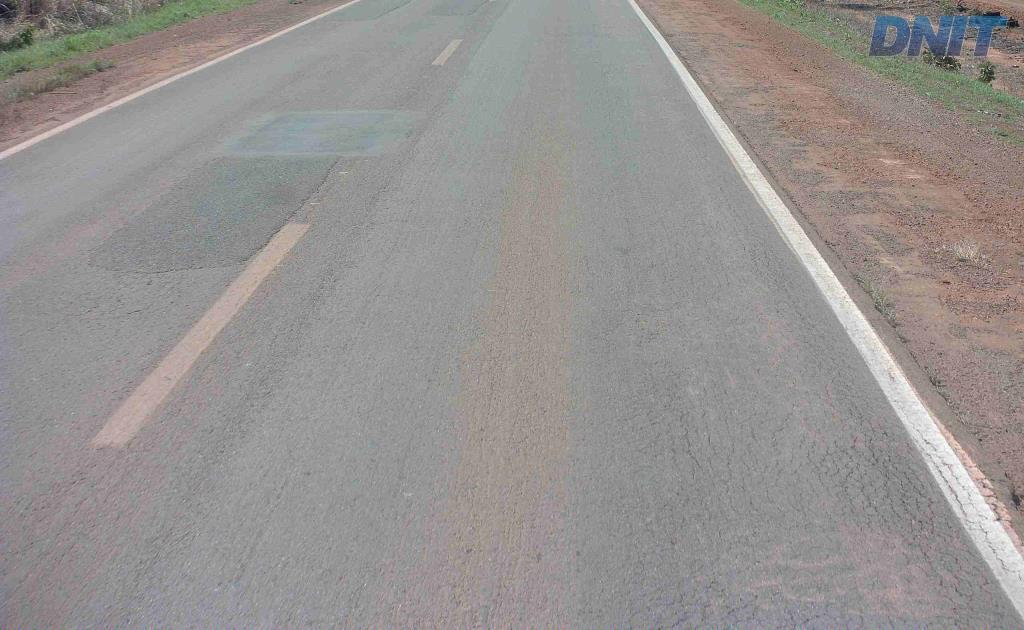crack: (878, 458, 941, 561), (649, 577, 713, 629), (622, 537, 649, 629), (653, 493, 692, 553)
